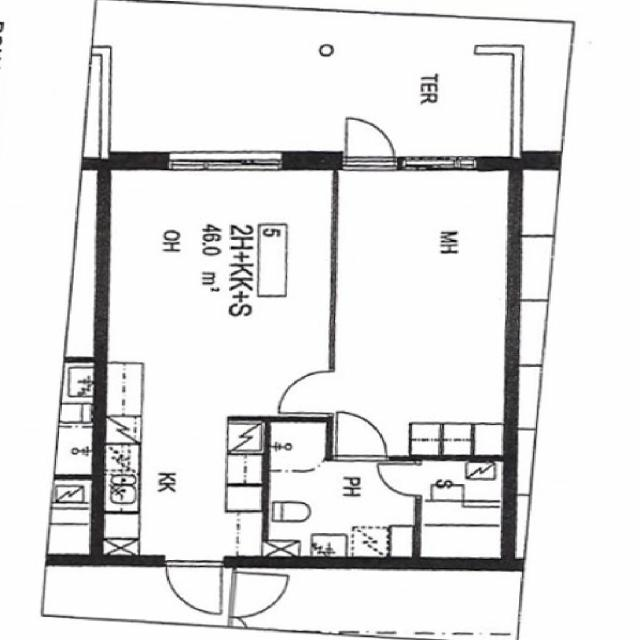door: (166, 558, 221, 615), (347, 115, 395, 171), (337, 412, 387, 460), (278, 372, 334, 413), (377, 463, 421, 495)
